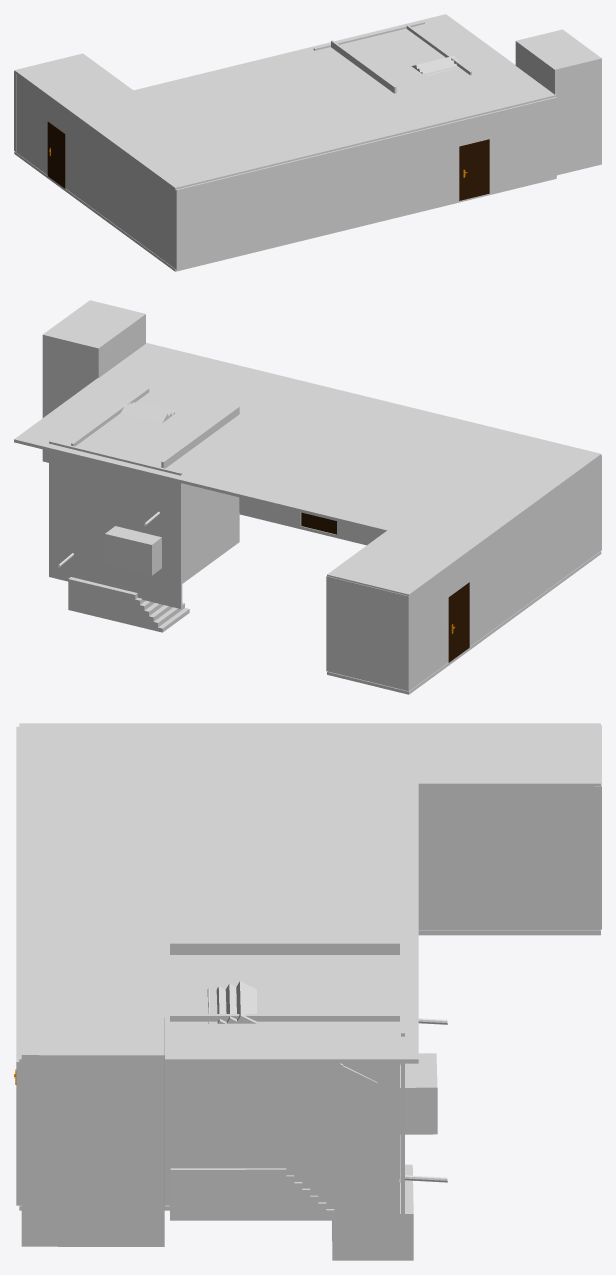
The model's file is Blend_PasilloPackIsland_N_v23.fbx.
3 renders of one model, top to bottom at view 1: azimuth 30°, elevation 25°; view 2: azimuth 150°, elevation 25°; view 3: azimuth 270°, elevation 25°, orthographic. The views are drawn at different scales.
Parts seen in each view (by area): view 1: Techo, Separador, ParedAscensor, Cube.004, Cube.010, Cube.007, ParedTrasera, Escalera.006, ParedTrasera.001, ParedTrasera.002; view 2: Techo, Separador, ParedTrasera.002, ParedAscensor, ParedTrasera, Escalera.001, Escalera.003, Cube.010, Cube.007, Escalera.006; view 3: Techo, ParedAscensor, Separador, ParedTrasera.001, Escalera.002, Escalera.006, Escalera.001, ParedTrasera, Escalera.003, Escalera.004, Cube.010, ParedTrasera.002.
Part boxes in pixels (x1,y1,x2,y2): Techo: (14, 14, 556, 190); Separador: (14, 71, 556, 269); ParedAscensor: (515, 29, 601, 175); Cube.004: (459, 139, 489, 200); Cube.010: (14, 151, 556, 271); Cube.007: (47, 121, 65, 188); ParedTrasera: (331, 40, 396, 93); Escalera.006: (411, 55, 460, 75); ParedTrasera.001: (406, 25, 471, 75); ParedTrasera.002: (313, 21, 424, 50); Techo: (14, 343, 601, 595); Separador: (239, 455, 601, 691); ParedTrasera.002: (49, 440, 182, 608); ParedAscensor: (42, 300, 145, 462); ParedTrasera: (161, 406, 239, 583); Escalera.001: (68, 577, 189, 632); Escalera.003: (105, 526, 161, 575); Cube.010: (239, 511, 601, 694); Cube.007: (448, 582, 469, 662); Escalera.006: (117, 401, 177, 423); Techo: (19, 723, 600, 1063); ParedAscensor: (21, 1013, 164, 1246); Separador: (16, 725, 601, 1205); ParedTrasera.001: (170, 1014, 399, 1220); Escalera.002: (170, 1168, 334, 1216); Escalera.006: (207, 981, 342, 1106); Escalera.001: (332, 1164, 413, 1260); ParedTrasera: (170, 941, 399, 954); Escalera.003: (400, 1053, 437, 1134); Escalera.004: (229, 1063, 377, 1123); Cube.010: (19, 929, 600, 1210); ParedTrasera.002: (401, 936, 404, 1238).
Bounding box in the file's own units: 1594 × 561 × 1048.
